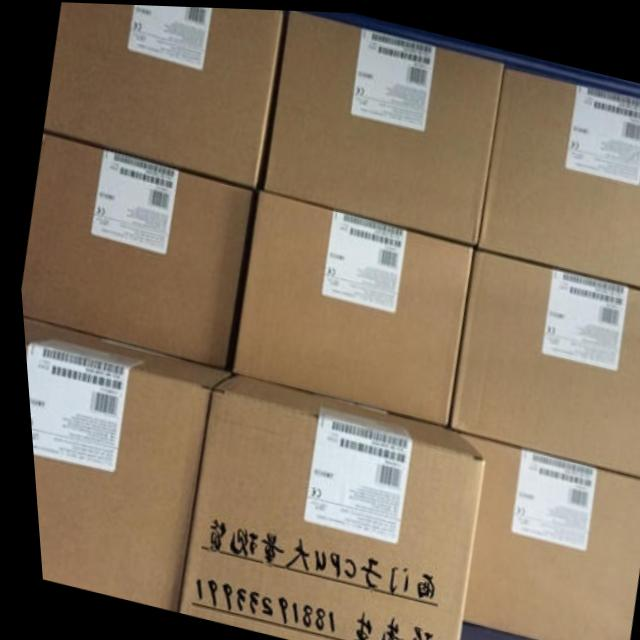box: (169, 372, 476, 640), (19, 319, 232, 611), (226, 186, 469, 426), (261, 8, 503, 242), (17, 133, 250, 365), (439, 242, 640, 472), (42, 2, 283, 189), (453, 429, 640, 640), (471, 63, 640, 285)
